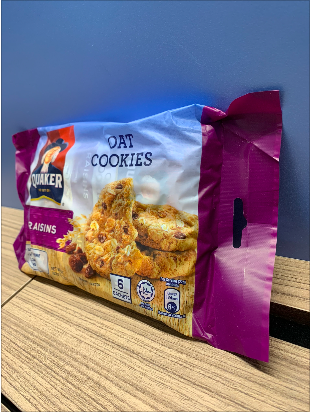Cookies_100-199g: (28, 128, 208, 296)
